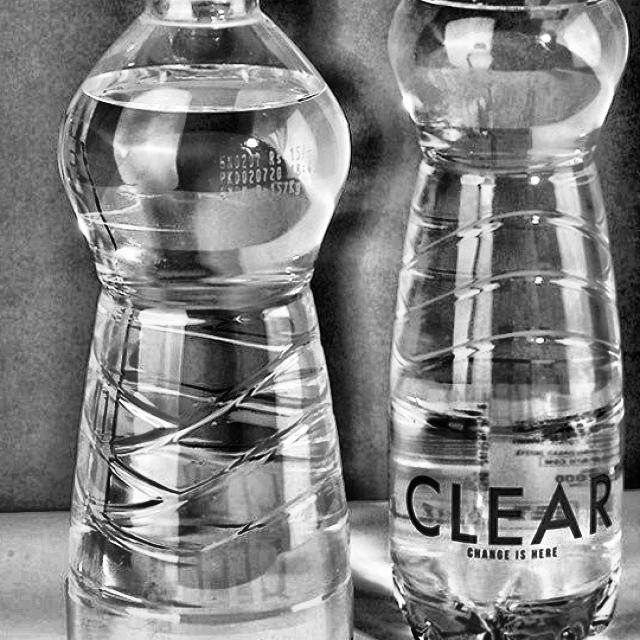bottle: (56, 0, 367, 640), (386, 0, 633, 640)
